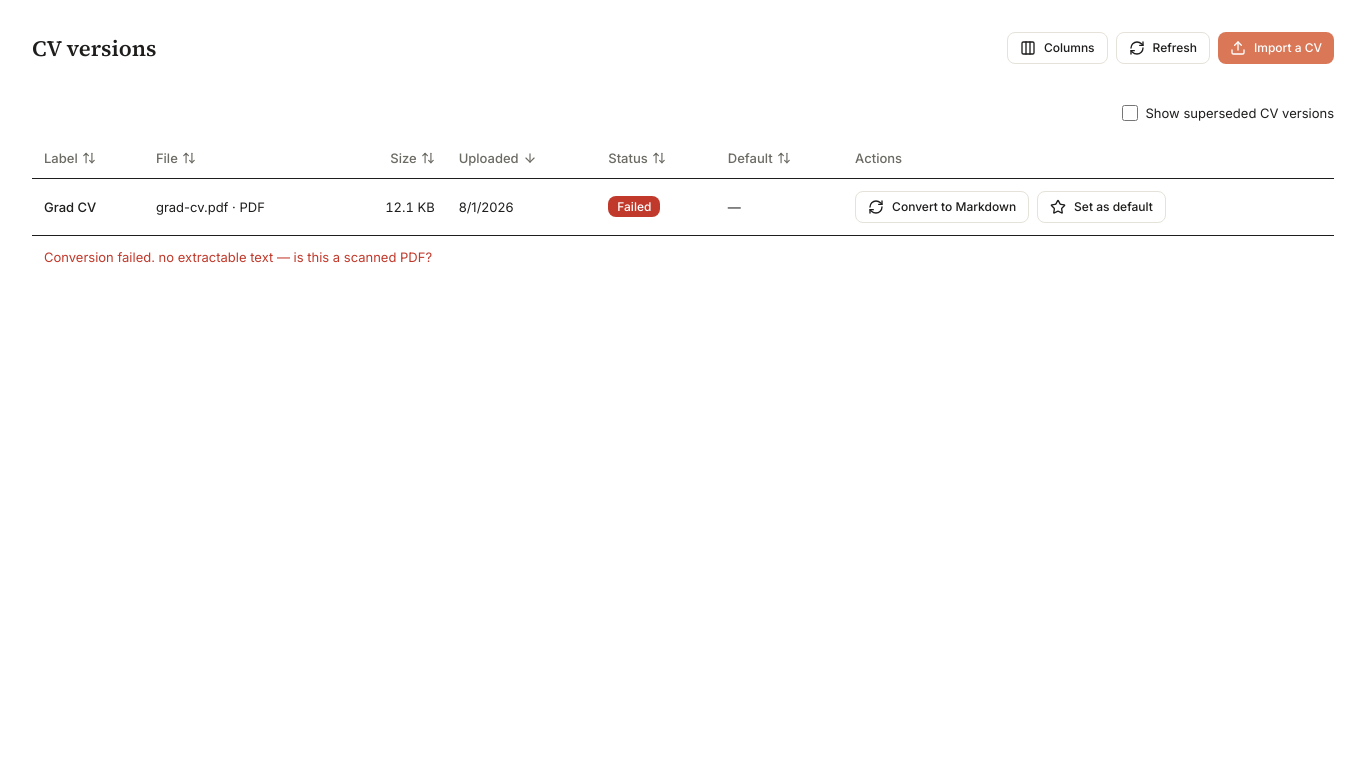
Test: CvVersionsPage — list › shows the conversionError text in the panel for a FAILED CV
Click the text "Grad CV". click: {"x": 88, "y": 207}
box: 32,178 -> 144,235
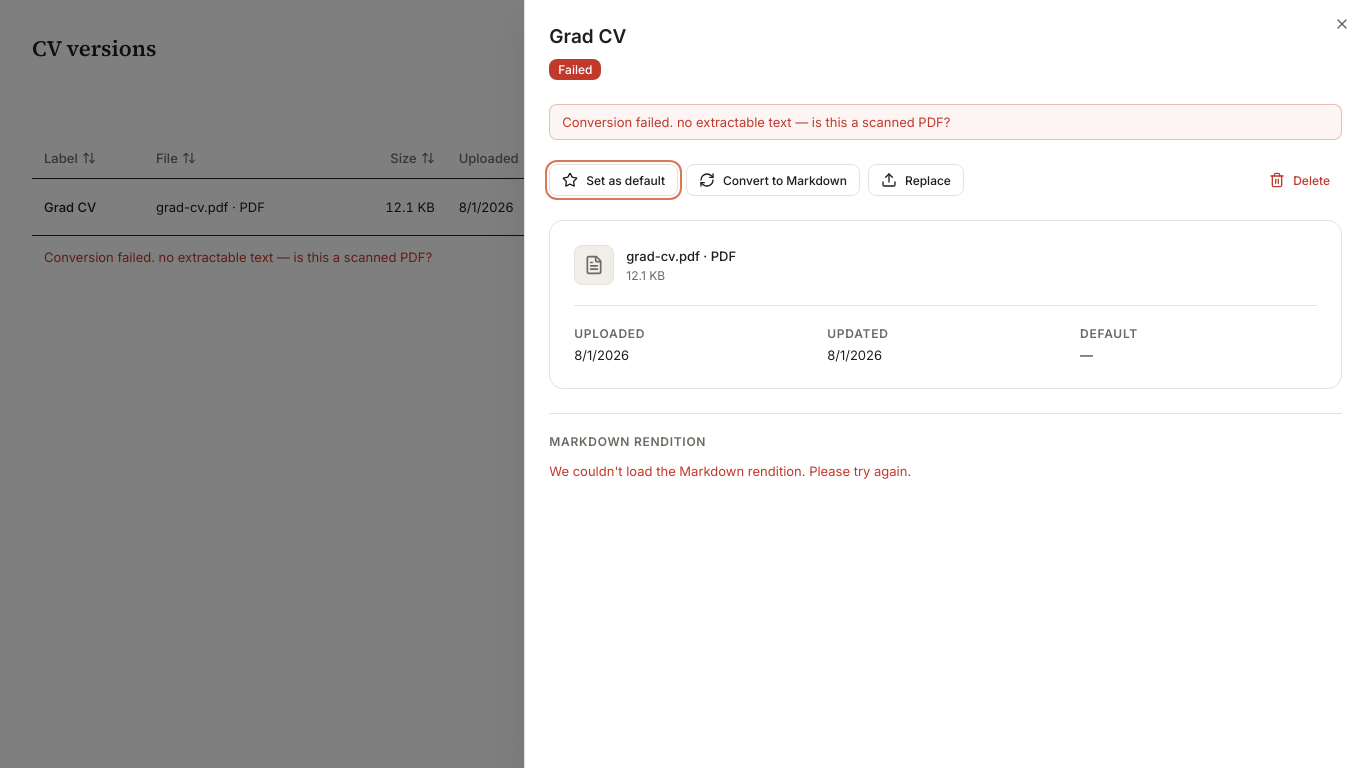
Expected: the text "Conversion failed. no extractable text — is this a scanned PDF?" is shown, 549,104 -> 1342,140
